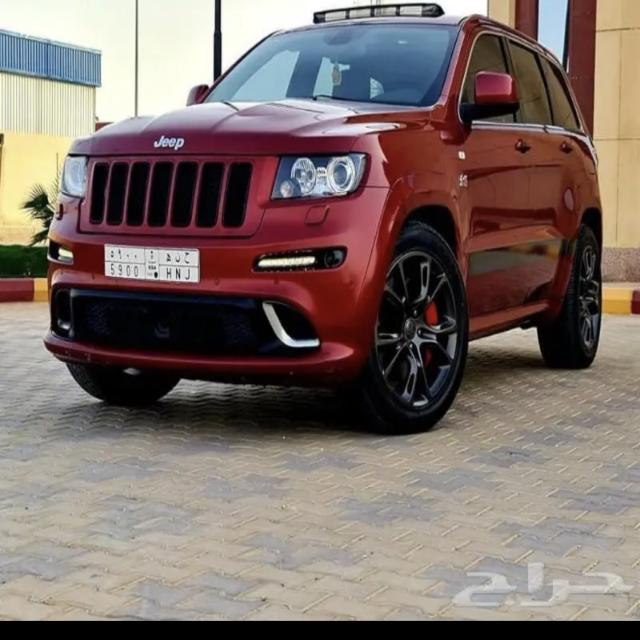license_plate: (105, 242, 201, 286)
